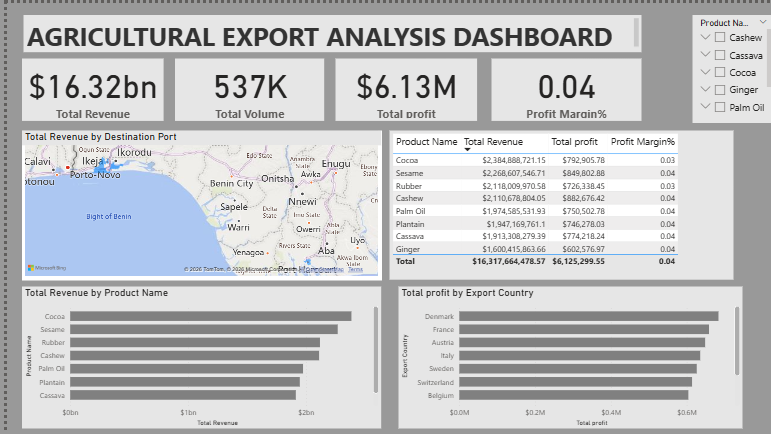

This screenshot's page, from the dashboard's own definition file:
{"tool":"powerbi","page":{"name":"Agricultural Export Analysis Dashboard","canvas":[1280,720],"ordinal":0},"visuals":[{"type":"card","fields":{"Values":["Nigeria_agricultural_exports.Total profit"]},"box":[548.6,92.9,235.7,104.3],"z":0},{"type":"textbox","box":[26.7,20,1030,61.7],"z":1},{"type":"card","fields":{"Values":["Nigeria_agricultural_exports.Total Revenue"]},"box":[25.7,92.9,235.7,104.3],"z":2},{"type":"card","fields":{"Values":["Nigeria_agricultural_exports.Total Volume"]},"box":[280,92.9,248.6,104.3],"z":3},{"type":"card","fields":{"Values":["Nigeria_agricultural_exports.Profit Margin%"]},"box":[807.1,92.9,250,104.3],"z":4},{"type":"filledMap","fields":{"Category":["Nigeria_agricultural_exports.Destination Port"],"X":["Nigeria_agricultural_exports.Total Revenue"]},"box":[25,211.7,598.3,248.3],"z":5},{"type":"barChart","fields":{"Y":["Nigeria_agricultural_exports.Total Revenue"],"Category":["Nigeria_agricultural_exports.Product Name"]},"box":[25,471.7,598.3,236.7],"z":6},{"type":"tableEx","fields":{"Values":["Nigeria_agricultural_exports.Product Name","Nigeria_agricultural_exports.Total Revenue","Nigeria_agricultural_exports.Total profit","Nigeria_agricultural_exports.Profit Margin%"]},"box":[638.3,211.7,573.3,248.3],"z":7},{"type":"clusteredBarChart","fields":{"Category":["Nigeria_agricultural_exports.Export Country"],"Y":["Nigeria_agricultural_exports.Total profit"]},"box":[653.3,471.7,573.3,236.7],"z":8},{"type":"slicer","fields":{"Values":["Nigeria_agricultural_exports.Product Name","Nigeria_agricultural_exports.Destination Port","Nigeria_agricultural_exports.Company"]},"box":[1143.3,20,136.7,178.3],"z":9}]}

Visuals, with their boxes in screenshot pixels (x1, y1, x2, y2), scaled from the page's 1280x720 canvas onto the 771x434 screenshot:
card - Nigeria_agricultural_exports.Total profit: <region>330, 56, 472, 119</region>
textbox: <region>16, 12, 636, 49</region>
card - Nigeria_agricultural_exports.Total Revenue: <region>15, 56, 157, 119</region>
card - Nigeria_agricultural_exports.Total Volume: <region>169, 56, 318, 119</region>
card - Nigeria_agricultural_exports.Profit Margin%: <region>486, 56, 637, 119</region>
filledMap - Nigeria_agricultural_exports.Destination Port x Nigeria_agricultural_exports.Total Revenue: <region>15, 128, 375, 277</region>
barChart - Nigeria_agricultural_exports.Total Revenue x Nigeria_agricultural_exports.Product Name: <region>15, 284, 375, 427</region>
tableEx - Nigeria_agricultural_exports.Product Name x Nigeria_agricultural_exports.Total Revenue: <region>384, 128, 730, 277</region>
clusteredBarChart - Nigeria_agricultural_exports.Export Country x Nigeria_agricultural_exports.Total profit: <region>394, 284, 739, 427</region>
slicer - Nigeria_agricultural_exports.Product Name x Nigeria_agricultural_exports.Destination Port: <region>689, 12, 770, 120</region>
